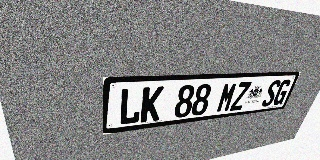8: (173, 84, 197, 118), (190, 83, 213, 116)
G: (271, 79, 292, 105)
K: (140, 86, 164, 123)
L: (118, 87, 143, 125)
M: (215, 82, 238, 113)
S: (260, 80, 282, 107)
Z: (229, 81, 252, 111)
